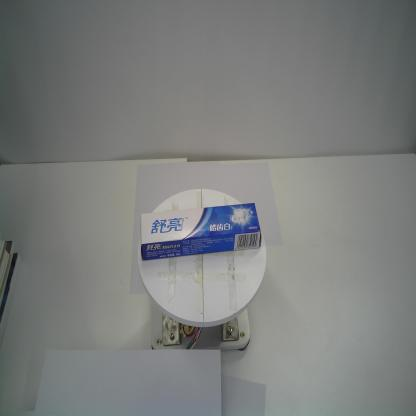Personal Hygiene: (140, 203, 260, 261)
